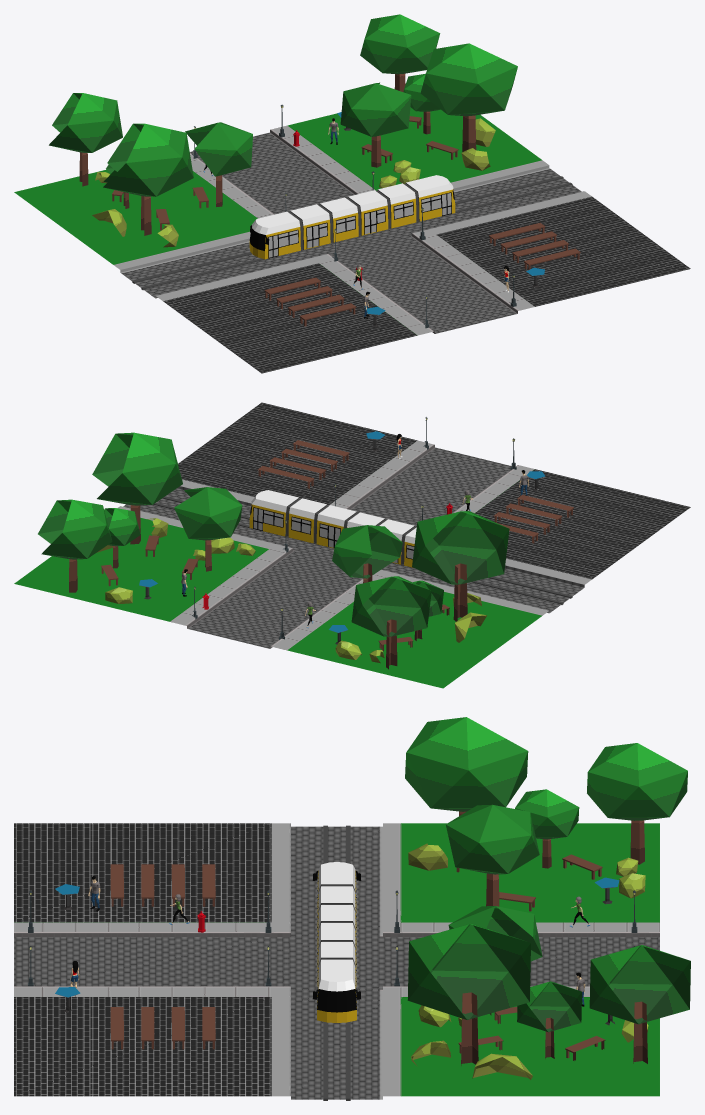
The model's file is tram.glb.
3 views of the same model, one above another, from view 1: azimuth 30°, elevation 25°; view 2: azimuth 150°, elevation 25°; view 3: azimuth 270°, elevation 25° (orthographic). The views are drawn at different scales.
Parts seen in each view (by area): view 1: Road.3, Train, Tree.021, Tree.029, Tree.020, Tree.030, Tree.025, Tree.027, Bench.047, Bench.046, Tree.024; view 2: Road.3, Tree.029, Train, Tree.021, Tree.030, Tree.020, Tree.025, Tree.027, Bench.046, Bench.047, Tree.024, Tree.028 (+1 smaller); view 3: Road.3, Tree.021, Tree.029, Train, Tree.020, Tree.030, Tree.027, Tree.024, Tree.028, Bench.046, Bench.047, Tree.025 (+2 smaller).
Boxes of the visible parts, box(x1,y1,x2,y2) form: Road.3: box(14, 107, 690, 373); Train: box(132, 175, 572, 290); Tree.021: box(420, 43, 517, 151); Tree.029: box(103, 123, 193, 235); Tree.020: box(360, 14, 440, 91); Tree.030: box(49, 93, 122, 186); Tree.025: box(340, 82, 411, 167); Tree.027: box(185, 122, 252, 206); Bench.047: box(264, 277, 356, 326); Bench.046: box(489, 222, 580, 269); Tree.024: box(403, 73, 440, 134); Road.3: box(14, 402, 690, 688); Tree.029: box(412, 511, 509, 621); Train: box(153, 490, 572, 604); Tree.021: box(92, 432, 182, 544); Tree.030: box(351, 576, 431, 669); Tree.020: box(38, 499, 112, 592); Tree.025: box(174, 487, 242, 571); Tree.027: box(332, 525, 402, 583); Bench.046: box(257, 440, 349, 488); Bench.047: box(493, 495, 573, 543); Tree.024: box(104, 508, 140, 568); Tree.028: box(413, 580, 443, 640); Road.3: box(14, 823, 659, 1099); Tree.021: box(407, 923, 530, 1065); Tree.029: box(405, 717, 528, 815); Train: box(312, 825, 361, 1100); Tree.020: box(589, 945, 690, 1063); Tree.030: box(587, 743, 687, 864); Tree.027: box(445, 804, 539, 906); Tree.024: box(517, 981, 581, 1058); Tree.028: box(515, 789, 579, 868); Bench.046: box(110, 1007, 215, 1049); Bench.047: box(110, 864, 215, 906); Tree.025: box(448, 906, 542, 1015).
Bounding box in the file's own units: 40.03 × 10.05 × 41.92.
7 materials, 6 textured.
